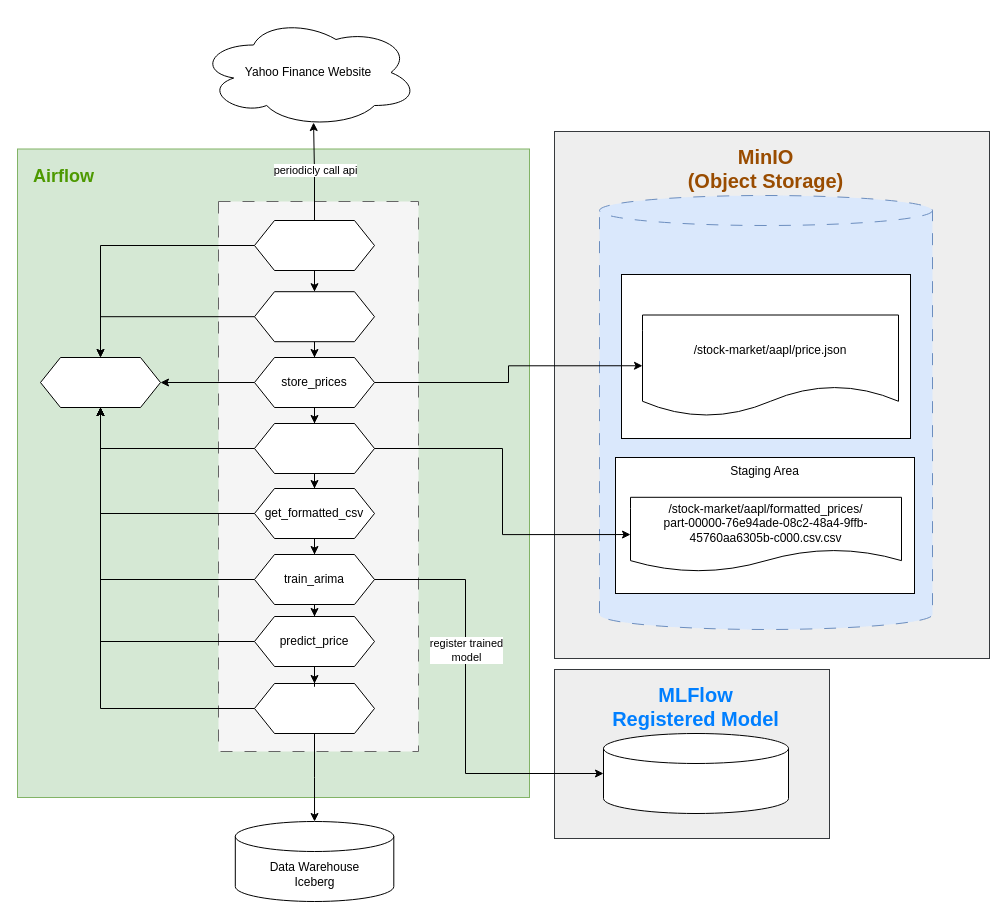
Some shapes in this 1007 by 919 pixel diagram are drawn without their labels. Here are the shapes that lost their labels. From the top down, the box of each, then its label:
(254, 220, 374, 270): is_api_availabe
(254, 291, 374, 342): get_stock_prices
(620, 274, 910, 438): Raw Area
(40, 356, 160, 408): stage_notification (Slack)
(254, 422, 374, 474): format_prices
(254, 682, 374, 734): load_dw
